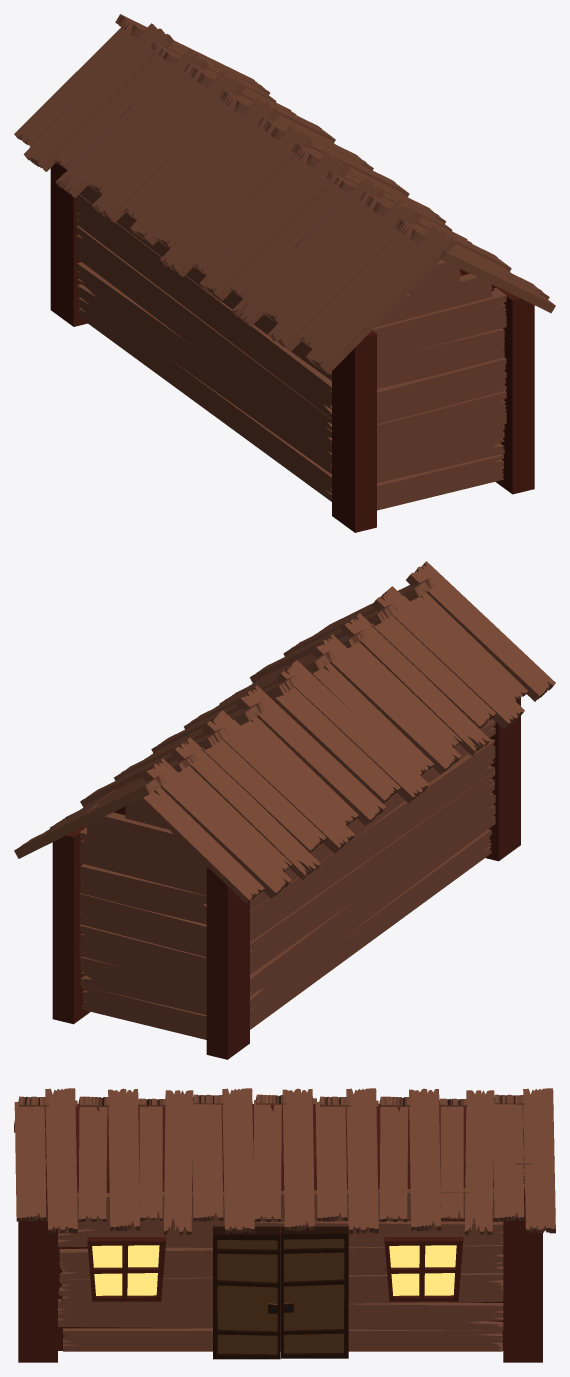
Rendered from house 2.fbx.
3 views of the same model, one above another, from view 1: azimuth 30°, elevation 25°; view 2: azimuth 150°, elevation 25°; view 3: azimuth 270°, elevation 25° (orthographic). The views are drawn at different scales.
Visible parts, largest first — view 1: Cube.010, Cube.011, Pillar.002, Cube.012, Cube.013, Pillar, Cube.045, Cube.056, Cube.038, Cube.036, Cube.043, Cube.051 (+30 smaller); view 2: Cube.011, Cube.010, Pillar.003, Cube.012, Cube.013, Pillar.001, Cube.056, Cube.038, Cube.045, Cube.001, Cube.043, Cube.051 (+28 smaller); view 3: door, door.001, Cube.003, Cube.002, Pillar, Pillar.001, Cube.004, Cube.006, window.001, window, Cube.005, Cube.066 (+19 smaller).
Part boxes in pixels (<box>): Cube.010: <box>76,194,331,418</box>; Cube.011: <box>76,225,331,450</box>; Pillar.002: <box>332,330,376,532</box>; Cube.012: <box>77,262,331,474</box>; Cube.013: <box>78,294,331,501</box>; Pillar: <box>491,284,534,494</box>; Cube.045: <box>306,226,456,374</box>; Cube.056: <box>23,23,174,171</box>; Cube.038: <box>200,152,350,300</box>; Cube.036: <box>160,125,313,276</box>; Cube.043: <box>268,200,421,351</box>; Cube.051: <box>92,71,245,222</box>; Cube.011: <box>250,771,495,974</box>; Cube.010: <box>250,739,495,942</box>; Pillar.003: <box>206,867,249,1059</box>; Cube.012: <box>250,795,495,1007</box>; Cube.013: <box>250,829,492,1029</box>; Pillar.001: <box>52,825,90,1024</box>; Cube.056: <box>142,758,291,898</box>; Cube.038: <box>311,634,461,774</box>; Cube.045: <box>406,561,555,701</box>; Cube.001: <box>236,685,385,825</box>; Cube.043: <box>371,586,524,729</box>; Cube.051: <box>202,710,355,853</box>; door: <box>281,1226,348,1358</box>; door.001: <box>213,1226,280,1359</box>; Cube.003: <box>58,1299,503,1330</box>; Cube.002: <box>62,1328,502,1351</box>; Pillar: <box>18,1187,57,1362</box>; Pillar.001: <box>503,1187,542,1362</box>; Cube.004: <box>58,1273,503,1307</box>; Cube.006: <box>58,1221,503,1247</box>; window.001: <box>384,1237,463,1301</box>; window: <box>87,1237,165,1301</box>; Cube.005: <box>59,1245,503,1279</box>; Cube.066: <box>523,1088,555,1233</box>.
Bounding box in the file's own units: 1108 × 1128 × 2389.
